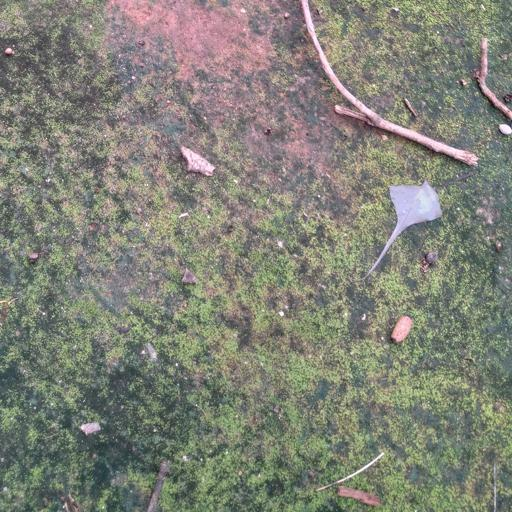algae: (0, 0, 511, 511)
